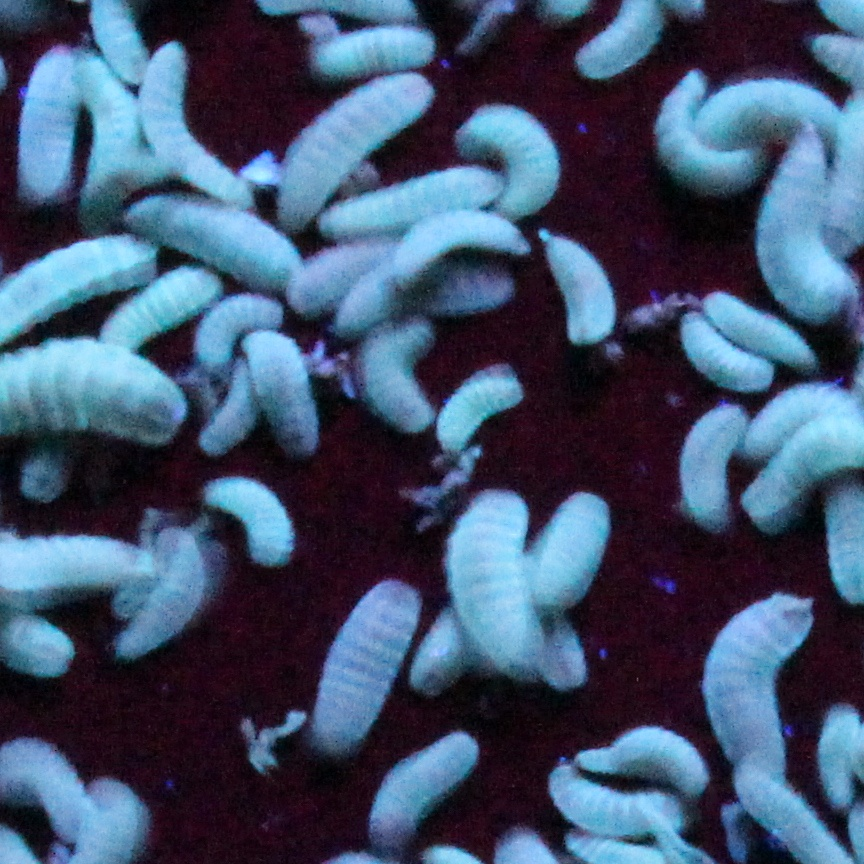larve: (268, 61, 437, 231), (304, 566, 431, 756), (696, 588, 817, 779), (132, 43, 258, 212), (441, 496, 552, 676), (642, 66, 763, 199), (462, 95, 581, 230), (4, 40, 94, 213), (524, 474, 616, 633), (97, 253, 225, 365), (546, 753, 696, 843), (571, 706, 714, 798), (123, 524, 211, 664), (539, 221, 625, 356), (237, 323, 323, 456), (391, 197, 529, 276), (699, 286, 824, 372), (198, 468, 302, 571), (431, 359, 526, 456), (679, 403, 745, 541)
